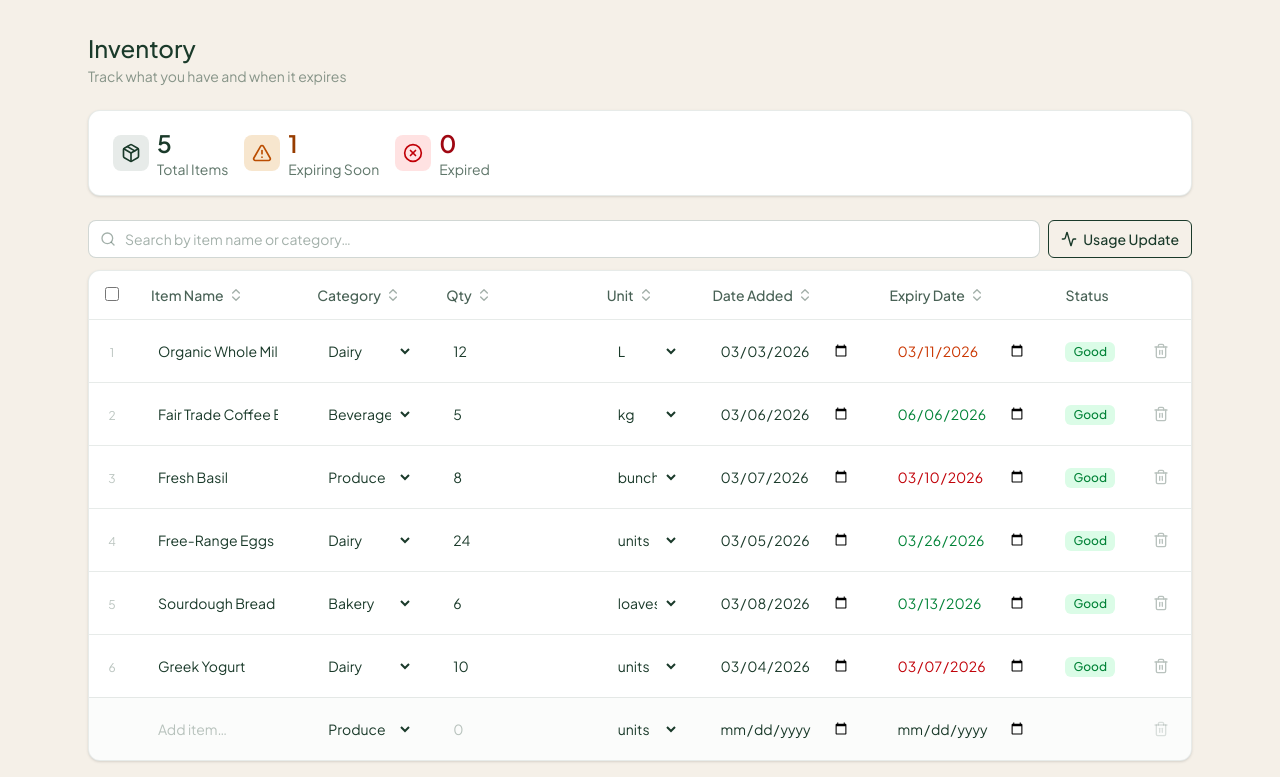
Scenario: when toggling usage update mode › shows "Recording Usage" text when the toggle is activated
Click the button "Usage Update" at (1120, 239), box [1048,220,1192,258]
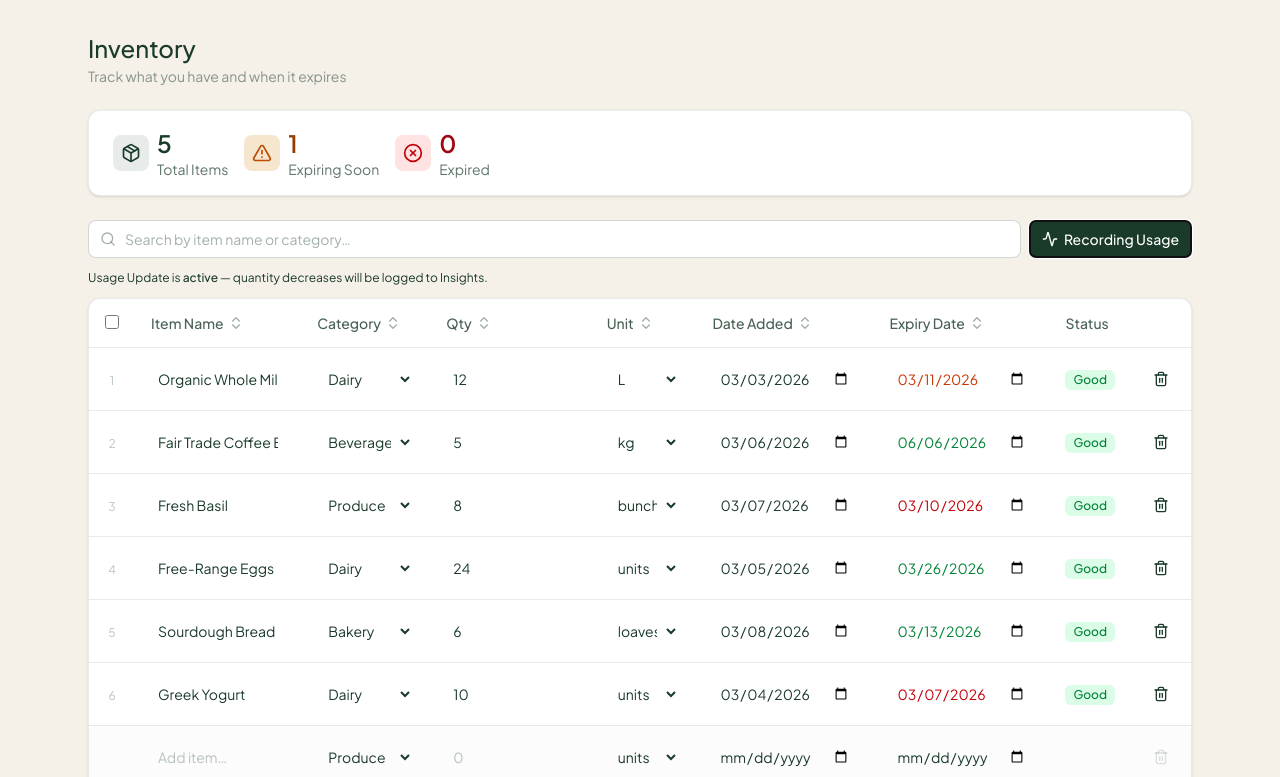
Expected: the button "Recording Usage" is shown, [1029,220,1192,258]
